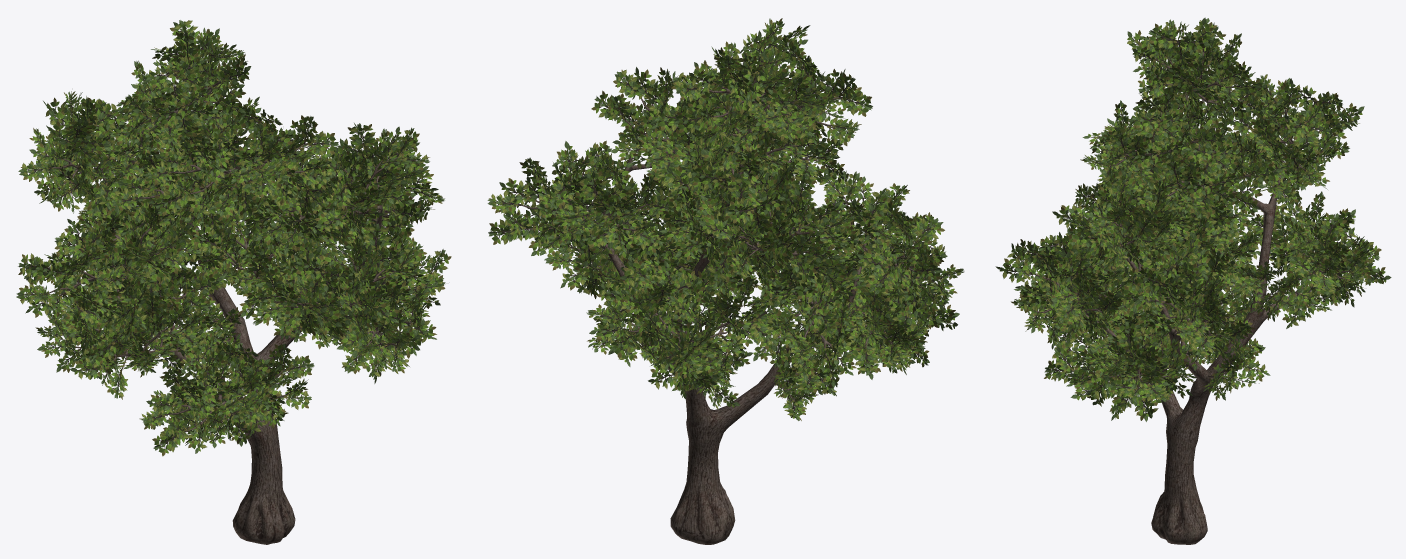
The model's file is prop_tree.glb.
3 views of the same model, side by side, from view 1: azimuth 30°, elevation 25°; view 2: azimuth 150°, elevation 25°; view 3: azimuth 270°, elevation 25° (orthographic). The views are drawn at different scales.
Parts seen in each view (by area): view 1: br_low_trunk_0; view 2: br_low_trunk_0; view 3: br_low_trunk_0.
Part boxes in pixels (x1,y1,x2,y2): br_low_trunk_0: (16, 20, 451, 544); br_low_trunk_0: (487, 18, 964, 544); br_low_trunk_0: (995, 17, 1391, 544).
Size of the model in its own units: 14.35 by 16.05 by 11.72.
2 materials, 2 textured.
